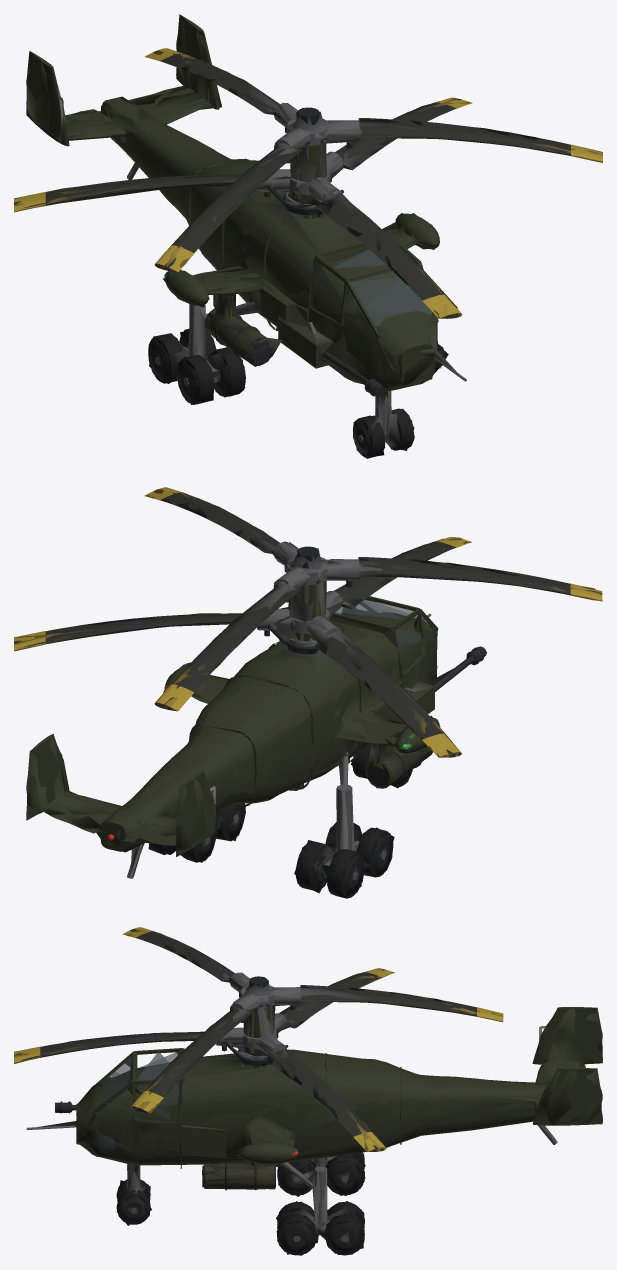
File: gunship_e.glb
3 renders of one model, top to bottom at view 1: azimuth 30°, elevation 25°; view 2: azimuth 150°, elevation 25°; view 3: azimuth 270°, elevation 25°, orthographic. The views are drawn at different scales.
Visible parts, largest first — view 1: L0_01_hull_opaque, L1_05_hull_opaque, L2_08_hull_opaque, L0_03_rotor_upper_opaque, L0_02_rotor_lower_opaque, L0_00_hull_glass, L1_07_rotor_upper_opaque, L1_06_rotor_lower_opaque, L1_04_hull_glass; view 2: L0_01_hull_opaque, L1_05_hull_opaque, L2_08_hull_opaque, L0_03_rotor_upper_opaque, L0_02_rotor_lower_opaque, L1_07_rotor_upper_opaque, L1_06_rotor_lower_opaque, L0_00_hull_glass, L1_04_hull_glass; view 3: L0_01_hull_opaque, L1_05_hull_opaque, L2_08_hull_opaque, L0_03_rotor_upper_opaque, L0_02_rotor_lower_opaque, L1_07_rotor_upper_opaque, L1_06_rotor_lower_opaque, L0_00_hull_glass, L1_04_hull_glass.
Part boxes in pixels (bbox=[...]): L0_01_hull_opaque: bbox=[26, 14, 466, 457]; L1_05_hull_opaque: bbox=[26, 14, 444, 458]; L2_08_hull_opaque: bbox=[46, 19, 602, 457]; L0_03_rotor_upper_opaque: bbox=[144, 48, 602, 272]; L0_02_rotor_lower_opaque: bbox=[14, 97, 472, 318]; L0_00_hull_glass: bbox=[312, 249, 443, 368]; L1_07_rotor_upper_opaque: bbox=[153, 48, 602, 266]; L1_06_rotor_lower_opaque: bbox=[14, 98, 470, 315]; L1_04_hull_glass: bbox=[312, 250, 431, 314]; L0_01_hull_opaque: bbox=[26, 581, 486, 898]; L1_05_hull_opaque: bbox=[27, 581, 486, 897]; L2_08_hull_opaque: bbox=[31, 487, 602, 896]; L0_03_rotor_upper_opaque: bbox=[144, 487, 602, 711]; L0_02_rotor_lower_opaque: bbox=[14, 537, 471, 757]; L1_07_rotor_upper_opaque: bbox=[144, 489, 601, 706]; L1_06_rotor_lower_opaque: bbox=[14, 537, 463, 752]; L0_00_hull_glass: bbox=[335, 599, 427, 673]; L1_04_hull_glass: bbox=[336, 600, 423, 673]; L0_01_hull_opaque: bbox=[26, 1005, 602, 1255]; L1_05_hull_opaque: bbox=[55, 1006, 602, 1255]; L2_08_hull_opaque: bbox=[18, 932, 588, 1254]; L0_03_rotor_upper_opaque: bbox=[122, 927, 503, 1113]; L0_02_rotor_lower_opaque: bbox=[14, 968, 394, 1151]; L1_07_rotor_upper_opaque: bbox=[126, 929, 502, 1112]; L1_06_rotor_lower_opaque: bbox=[14, 968, 389, 1150]; L0_00_hull_glass: bbox=[92, 1052, 179, 1146]; L1_04_hull_glass: bbox=[100, 1052, 179, 1119].
Bounding box in the file's own units: 8.72 × 5.27 × 11.8.
